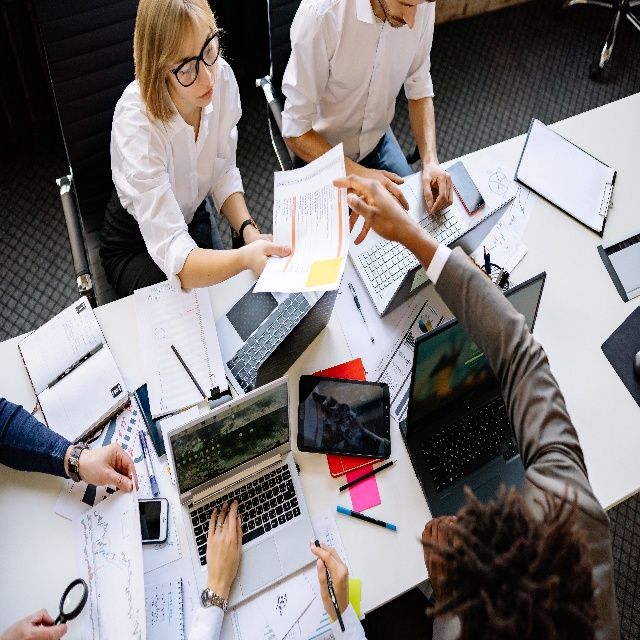Gafas: (168, 25, 220, 88)
Sin_guantes: (333, 172, 404, 246), (206, 499, 243, 595), (309, 538, 350, 623), (78, 442, 139, 493), (0, 607, 67, 640), (363, 166, 410, 212), (245, 239, 291, 277), (422, 160, 453, 214)
